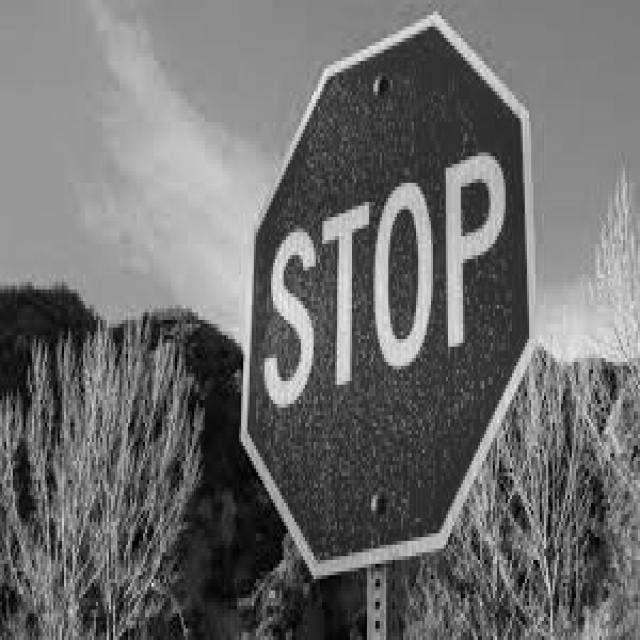stop sign: (248, 16, 534, 566)
